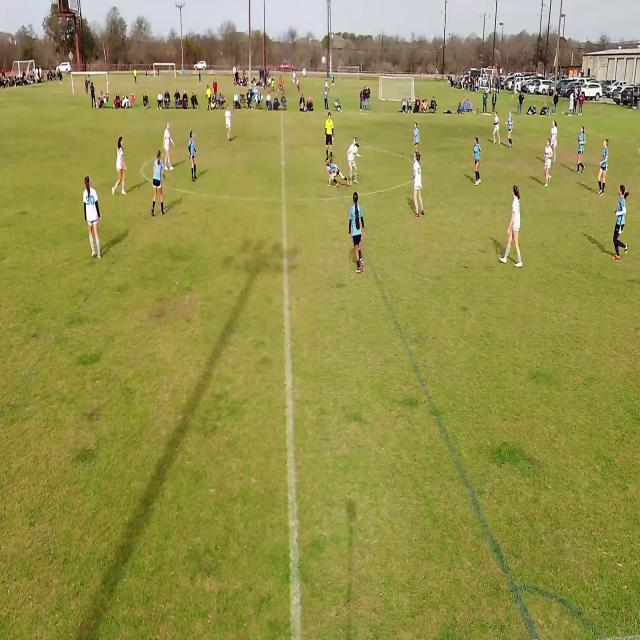ball: (321, 56, 326, 65)
team1: (614, 184, 632, 260), (349, 198, 366, 272), (150, 151, 165, 219), (596, 140, 608, 198), (188, 132, 200, 186), (322, 161, 344, 190), (575, 125, 586, 175), (472, 138, 482, 186), (507, 114, 515, 151)
team2: (83, 176, 102, 259), (505, 186, 524, 268), (412, 152, 426, 216), (112, 139, 126, 197), (346, 138, 361, 188), (162, 123, 175, 173), (542, 140, 553, 188), (492, 112, 502, 149), (552, 120, 559, 165), (224, 106, 232, 141), (414, 122, 422, 154)
